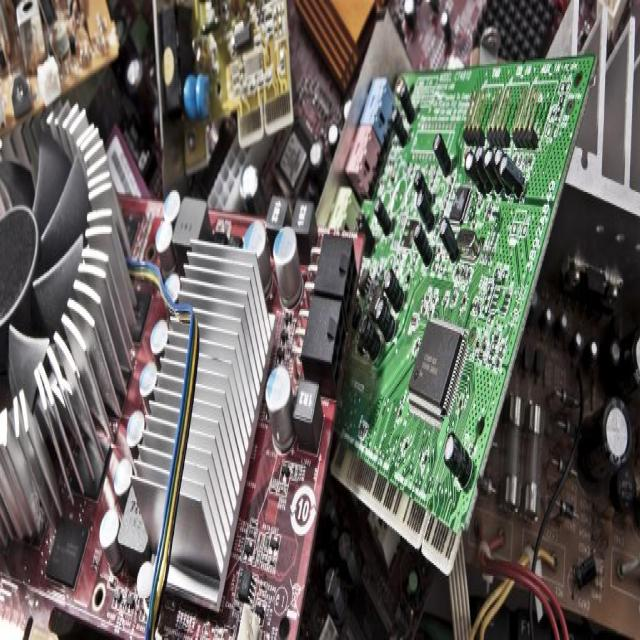Hazard: (0, 0, 589, 628)
